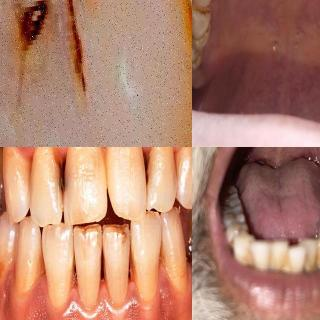Gum Swelling: (9, 273, 61, 320), (151, 264, 187, 313), (61, 280, 93, 320), (122, 283, 152, 320), (92, 282, 121, 320)
calculus: (250, 254, 286, 270)
cavities: (0, 0, 157, 104), (53, 157, 75, 200), (133, 148, 157, 186)
maligned: (290, 237, 310, 265)
stains: (192, 0, 215, 27)
